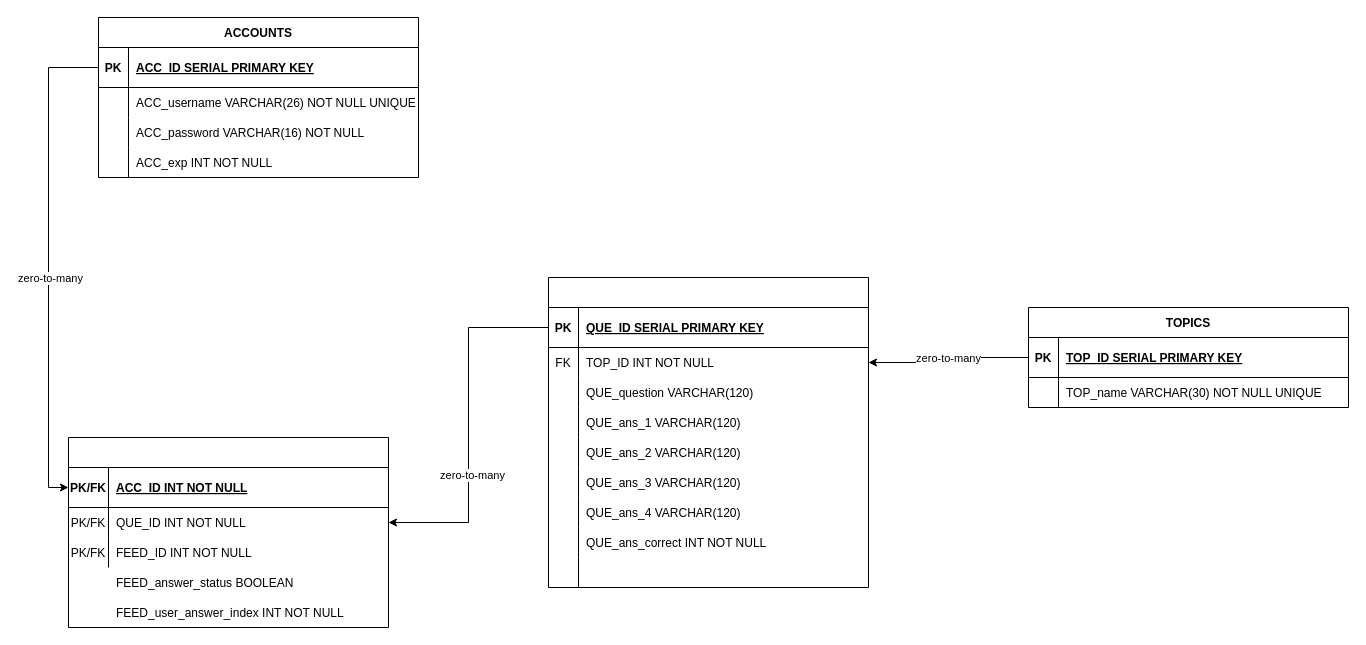
Some shapes in this 1366 by 645 pixel diagram are drawn without their labels. Each missing label, with the box of its shape:
FEEDBACK: (68, 436, 388, 628)
QUESTIONS: (548, 276, 868, 588)
